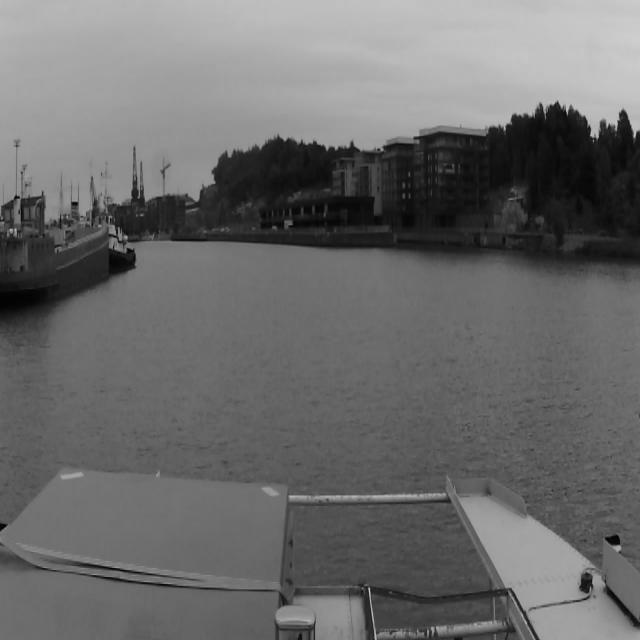ship: (1, 216, 109, 309), (108, 222, 136, 273)
